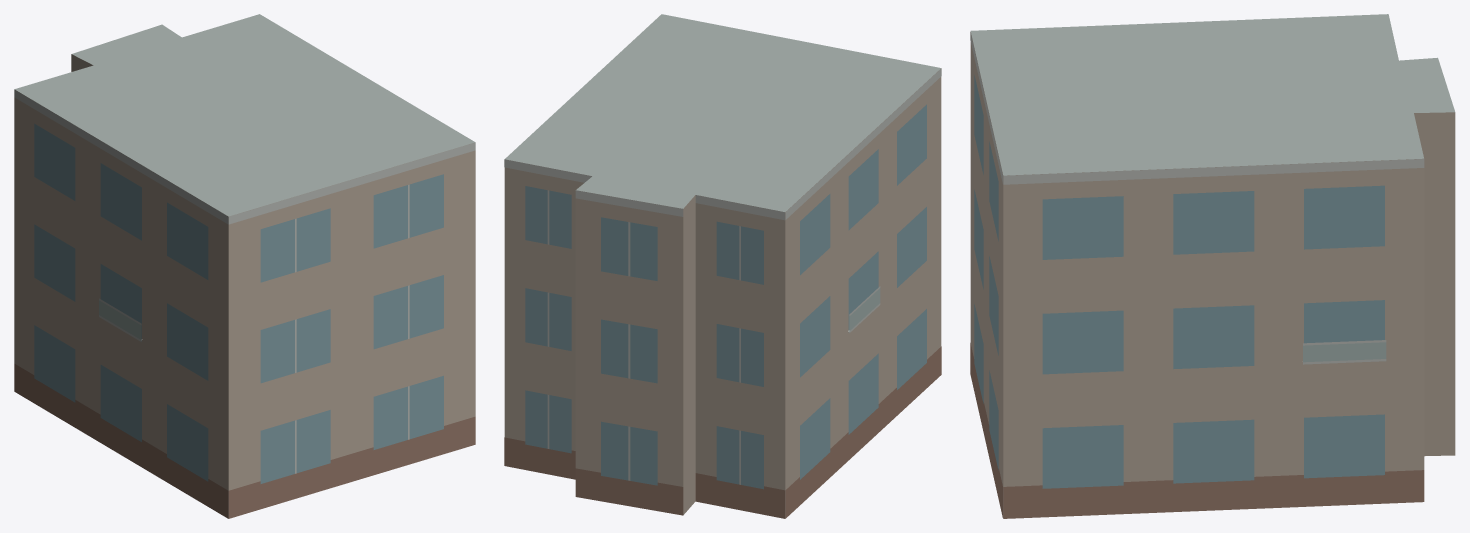
The model's file is survey-upis-32625743.glb.
The picture shows the model from 3 angles, left to right: view 1: azimuth 30°, elevation 25°; view 2: azimuth 150°, elevation 25°; view 3: azimuth 270°, elevation 25°; orthographic projection. The views are drawn at different scales.
Visible parts, largest first — view 1: survey-upis-32625743.tmp; view 2: survey-upis-32625743.tmp; view 3: survey-upis-32625743.tmp.
Boxes of the visible parts, bbox=[...] form: survey-upis-32625743.tmp: bbox=[14, 14, 475, 518]; survey-upis-32625743.tmp: bbox=[504, 14, 941, 518]; survey-upis-32625743.tmp: bbox=[970, 14, 1455, 518].
Bounding box in the file's own units: 9.25 × 9.15 × 11.73.
